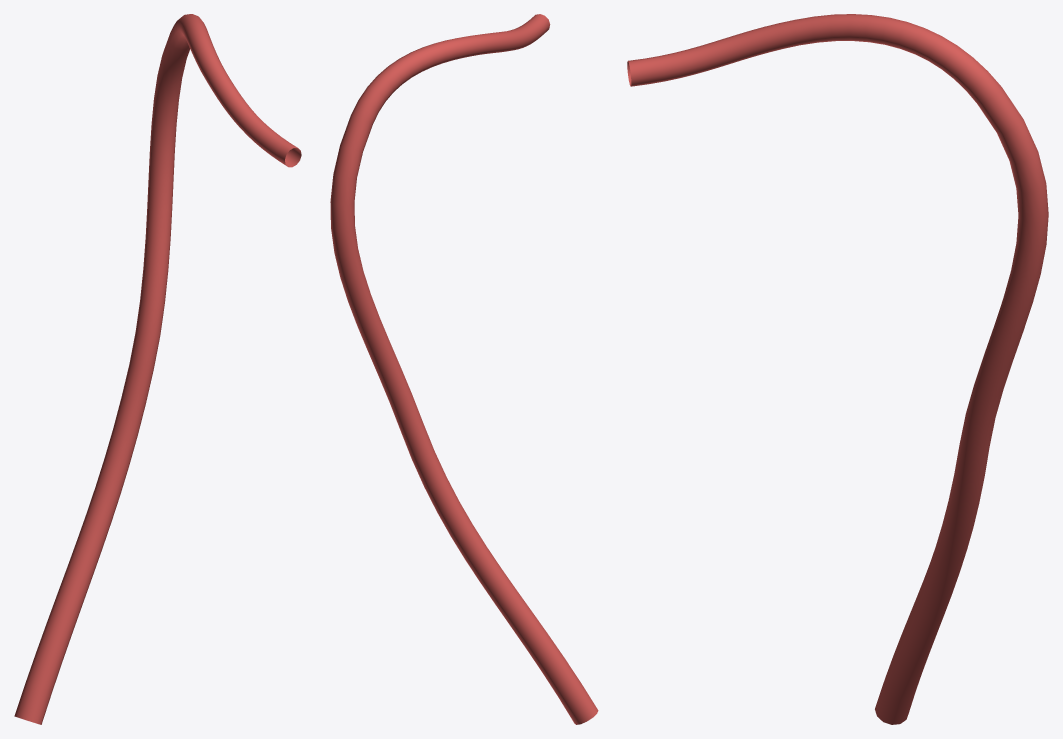
3 views of the same model, side by side, from view 1: azimuth 30°, elevation 25°; view 2: azimuth 150°, elevation 25°; view 3: azimuth 270°, elevation 25° (orthographic). The views are drawn at different scales.
Visible parts, largest first — view 1: 左侧旋肩胛动脉; view 2: 左侧旋肩胛动脉; view 3: 左侧旋肩胛动脉.
Boxes of the visible parts, x1,y1,x2,y2 form: 左侧旋肩胛动脉: (14, 14, 301, 724); 左侧旋肩胛动脉: (330, 14, 598, 724); 左侧旋肩胛动脉: (627, 14, 1048, 724).
Bounding box in the file's own units: 0.0207 × 0.0599 × 0.0286.
